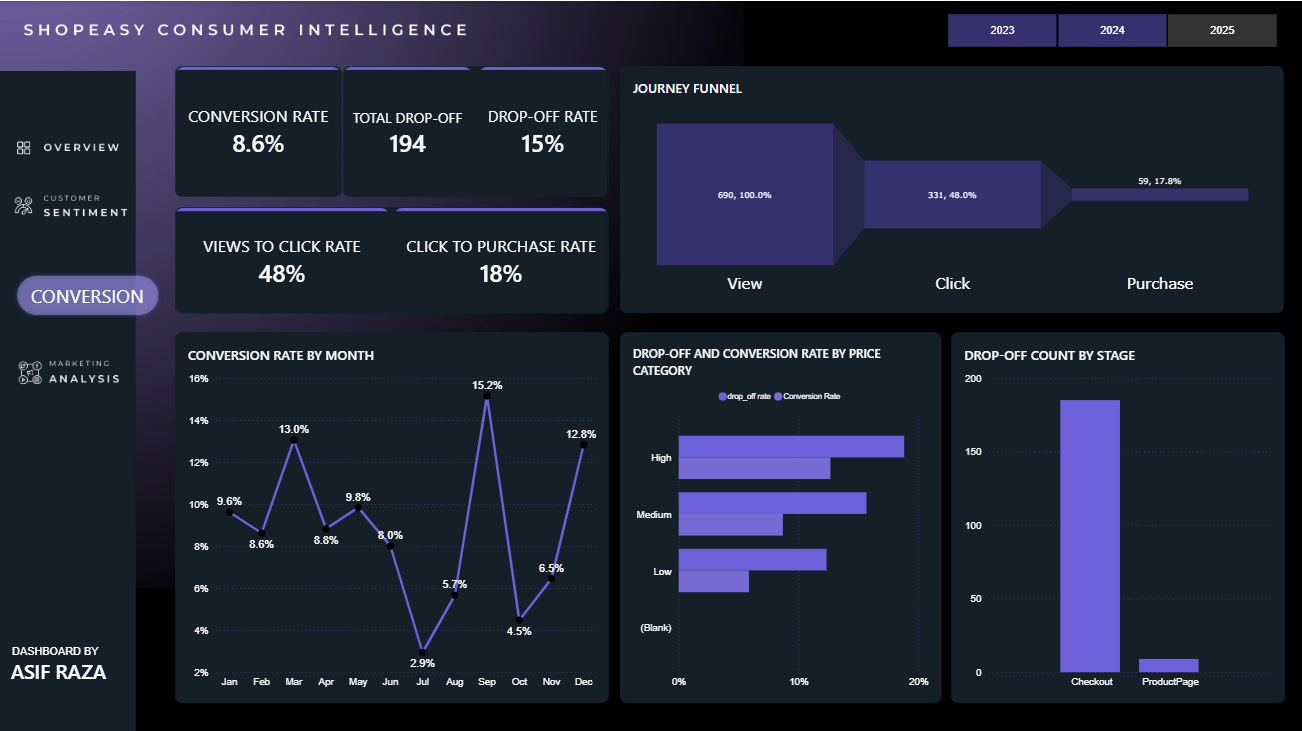

The dashboard page shown, as its layout file describes it:
{"tool":"powerbi","page":{"name":"Conversion Analysis","canvas":[1600,900],"ordinal":2},"visuals":[{"type":"cardVisual","fields":{"Data":["calculations.Conversion Rate"]},"box":[214.8,80.3,204.9,160.7],"z":0},{"type":"cardVisual","fields":{"Data":["calculations.Total Dropoffs","calculations.drop_off rate"]},"box":[420.2,79.8,326.7,161],"z":1000},{"type":"columnChart","title":"DROP-OFF COUNT BY STAGE","fields":{"Category":["customer_journey_cleaned.Stage"],"Y":["CountNonNull(customer_journey_cleaned.JourneyID)"]},"box":[1167.2,406.4,409.5,455.5],"z":2000},{"type":"clusteredBarChart","title":"DROP-OFF AND CONVERSION RATE BY PRICE CATEGORY","fields":{"Category":["products.Price Category"],"Y":["calculations.drop_off rate","calculations.Conversion Rate"]},"box":[760.7,406.4,394.2,455.5],"z":3000},{"type":"cardVisual","fields":{"Data":["calculations.View to Click Rate","calculations.Click to Purchase Rate"]},"box":[214.7,253.1,532.2,130.4],"z":4000},{"type":"stackedhorizontalfunnelEC4E2CF18990EF8267C380787C9A6BC9","title":"JOURNEY FUNNEL","fields":{"col_0":["customer_journey_cleaned.Action"],"col_1":["CountNonNull(customer_journey_cleaned.JourneyID)"]},"box":[760.7,80.3,814.8,303.3],"z":5000},{"type":"lineChart","title":"CONVERSION RATE BY MONTH","fields":{"Category":["Calendar.MonthNameShort"],"Y":["calculations.Conversion Rate"]},"box":[214.7,406.4,532.2,455.5],"z":6000},{"type":"slicer","fields":{"Values":["Calendar.Date.Variation.Date Hierarchy.Year"]},"box":[1142.6,13.1,442.6,44.3],"z":7000},{"type":"shape","box":[11.7,305,150,111.7],"z":8000},{"type":"shape","box":[0,316.7,215,90],"z":9000},{"type":"pageNavigator","box":[0,131.7,183.3,100],"z":10000},{"type":"pageNavigator","box":[0,205,183.3,100],"z":11000},{"type":"pageNavigator","box":[0,400,183.3,100],"z":12000},{"type":"textbox","box":[0,789.9,182.5,72.1],"z":13000}]}

Visuals, with their boxes in screenshot pixels (x1, y1, x2, y2), scaled from the page's 1600x900 canvas onto the 1302x731 screenshot:
cardVisual - calculations.Conversion Rate: detection(175, 65, 342, 196)
cardVisual - calculations.Total Dropoffs x calculations.drop_off rate: detection(342, 65, 608, 196)
"DROP-OFF COUNT BY STAGE" columnChart: detection(950, 330, 1283, 700)
"DROP-OFF AND CONVERSION RATE BY PRICE CATEGORY" clusteredBarChart: detection(619, 330, 940, 700)
cardVisual - calculations.View to Click Rate x calculations.Click to Purchase Rate: detection(175, 206, 608, 311)
"JOURNEY FUNNEL" stackedhorizontalfunnelEC4E2CF18990EF8267C380787C9A6BC9: detection(619, 65, 1282, 312)
"CONVERSION RATE BY MONTH" lineChart: detection(175, 330, 608, 700)
slicer - Calendar.Date.Variation.Date Hierarchy.Year: detection(930, 11, 1290, 47)
shape: detection(10, 248, 132, 338)
shape: detection(0, 257, 175, 330)
pageNavigator: detection(0, 107, 149, 188)
pageNavigator: detection(0, 167, 149, 248)
pageNavigator: detection(0, 325, 149, 406)
textbox: detection(0, 642, 149, 700)
